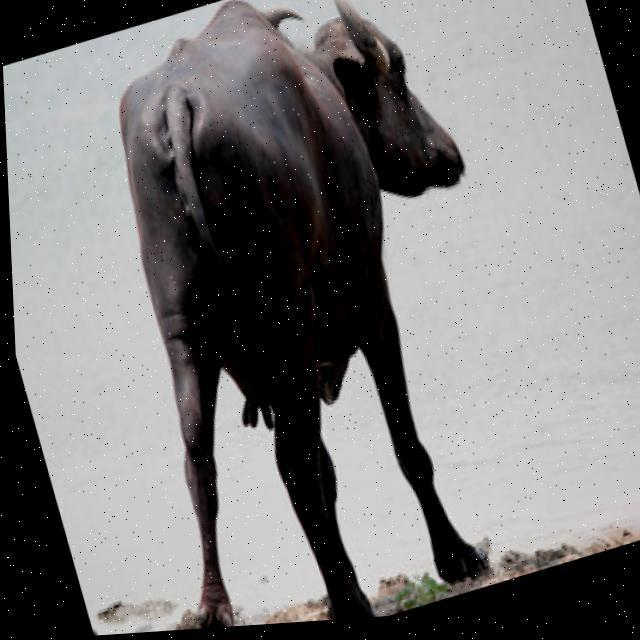Buffalo: (30, 0, 577, 638)
